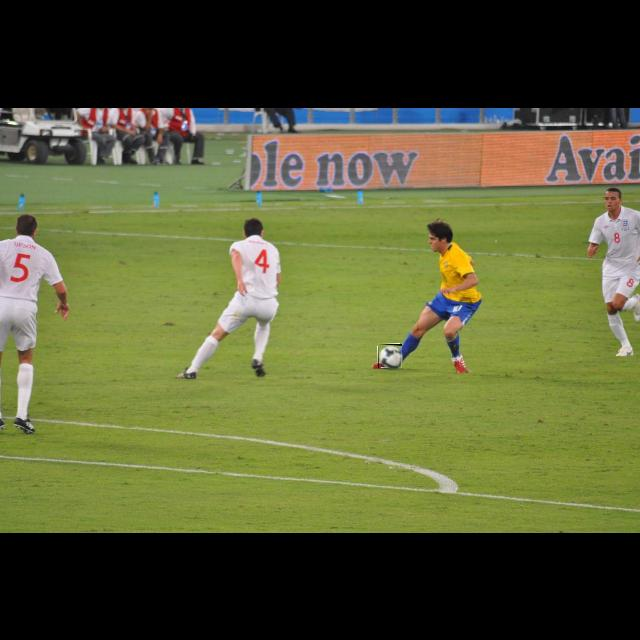Football: (378, 344, 402, 368)
